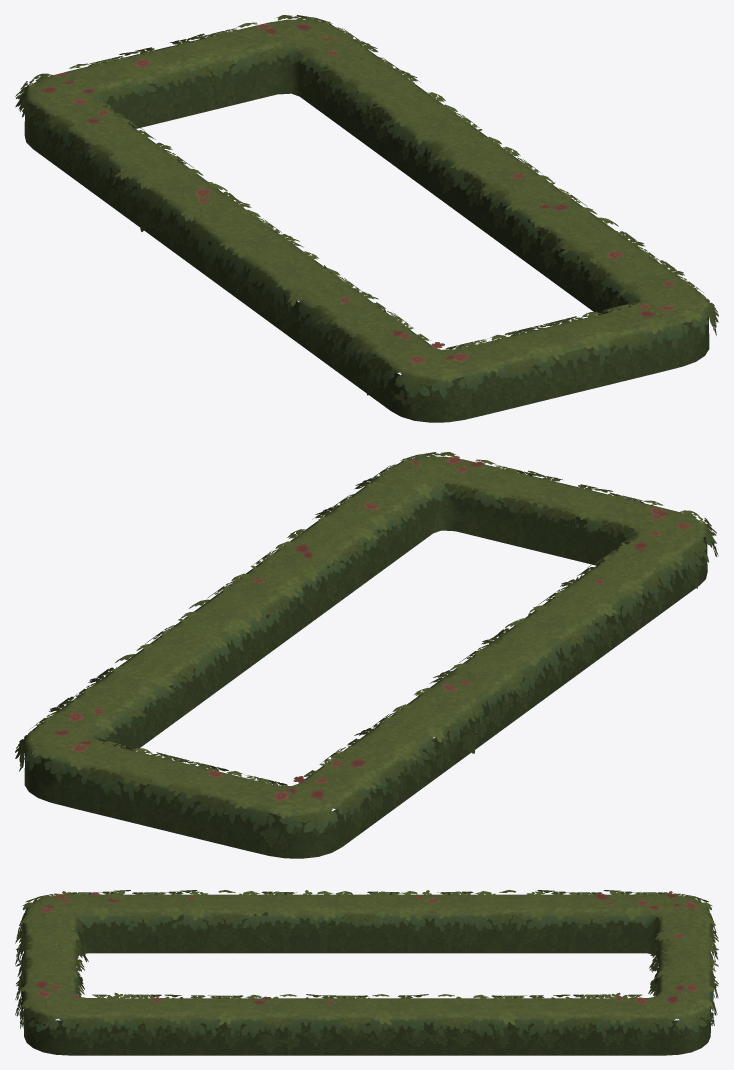
The model's file is pref_sm_garden_plant_pool01_lv3.fbx.
The picture shows the model from 3 angles, top to bottom: view 1: azimuth 30°, elevation 25°; view 2: azimuth 150°, elevation 25°; view 3: azimuth 270°, elevation 25°; orthographic projection. The views are drawn at different scales.
Parts seen in each view (by area): view 1: pref_sm_garden_plant_pool01_lv3; view 2: pref_sm_garden_plant_pool01_lv3; view 3: pref_sm_garden_plant_pool01_lv3.
Boxes of the visible parts, x1=… form: pref_sm_garden_plant_pool01_lv3: x1=15, y1=15, x2=718, y2=422; pref_sm_garden_plant_pool01_lv3: x1=15, y1=452, x2=718, y2=858; pref_sm_garden_plant_pool01_lv3: x1=15, y1=890, x2=718, y2=1055.
Size of the model in its own units: 9.07 by 1.52 by 19.86.
